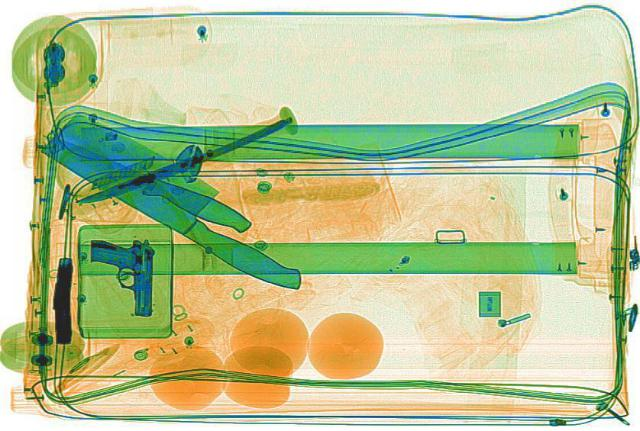Gun: (86, 237, 154, 316), (51, 256, 73, 343)
Knife: (24, 110, 346, 295), (28, 125, 258, 234), (73, 116, 297, 207)
